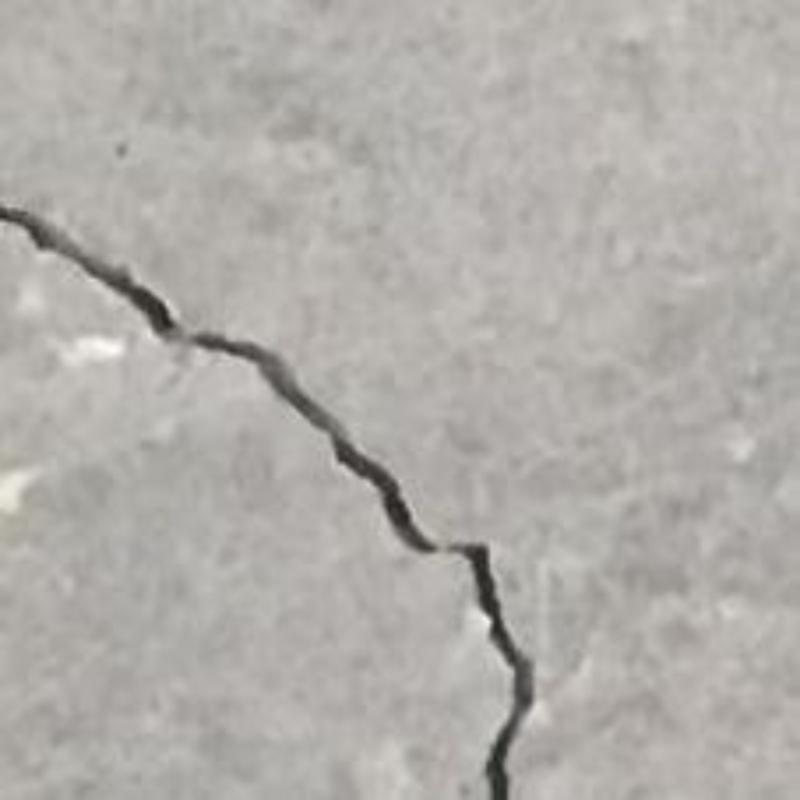pothole: (0, 204, 532, 800)
